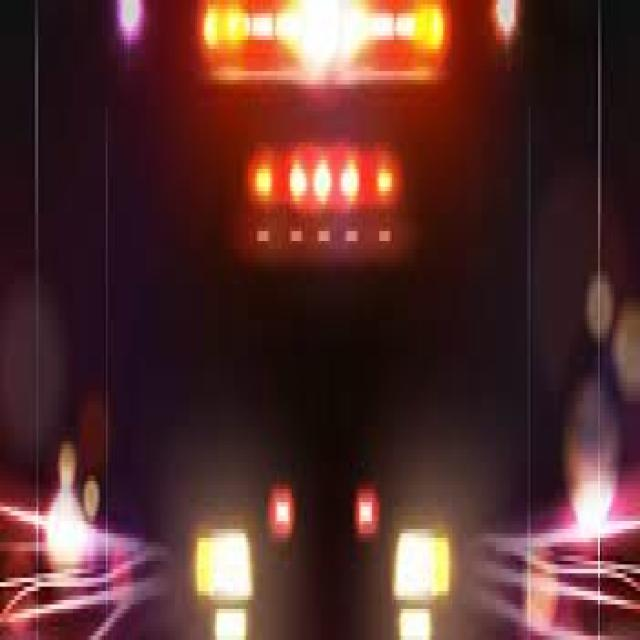ambulance: (184, 5, 470, 212)
